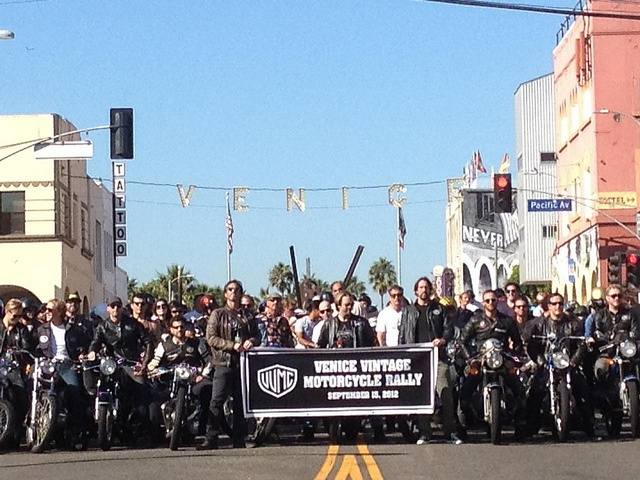non-vehicle: (13, 346, 80, 453), (461, 336, 524, 445), (530, 332, 589, 443), (81, 353, 142, 451), (591, 330, 639, 438), (156, 356, 208, 451), (0, 348, 31, 443)
